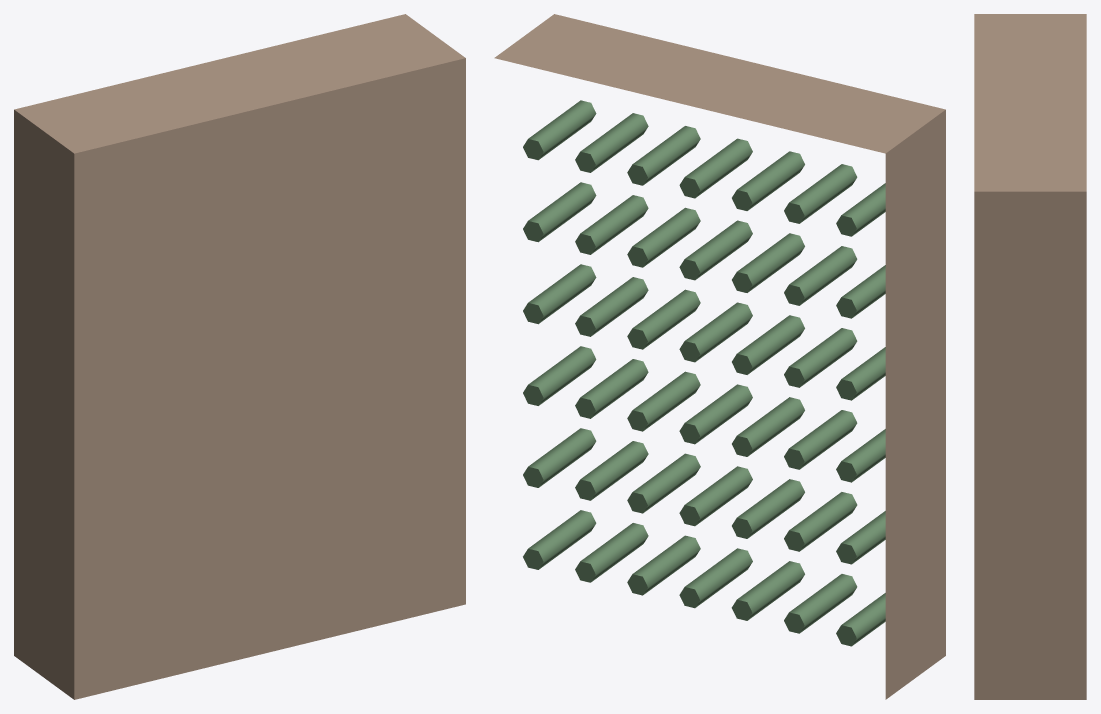
Rendered from wine_rack.gltf.
3 views of the same model, side by side, from view 1: azimuth 30°, elevation 25°; view 2: azimuth 150°, elevation 25°; view 3: azimuth 270°, elevation 25° (orthographic). The views are drawn at different scales.
Parts seen in each view (by area): view 1: wine_rack; view 2: wine_rack; view 3: wine_rack.
Part boxes in pixels (x1,y1,x2,y2): wine_rack: [14, 14, 465, 699]; wine_rack: [494, 14, 945, 699]; wine_rack: [974, 14, 1086, 699].
Size of the model in its own units: 1.5 by 2 by 0.4.
